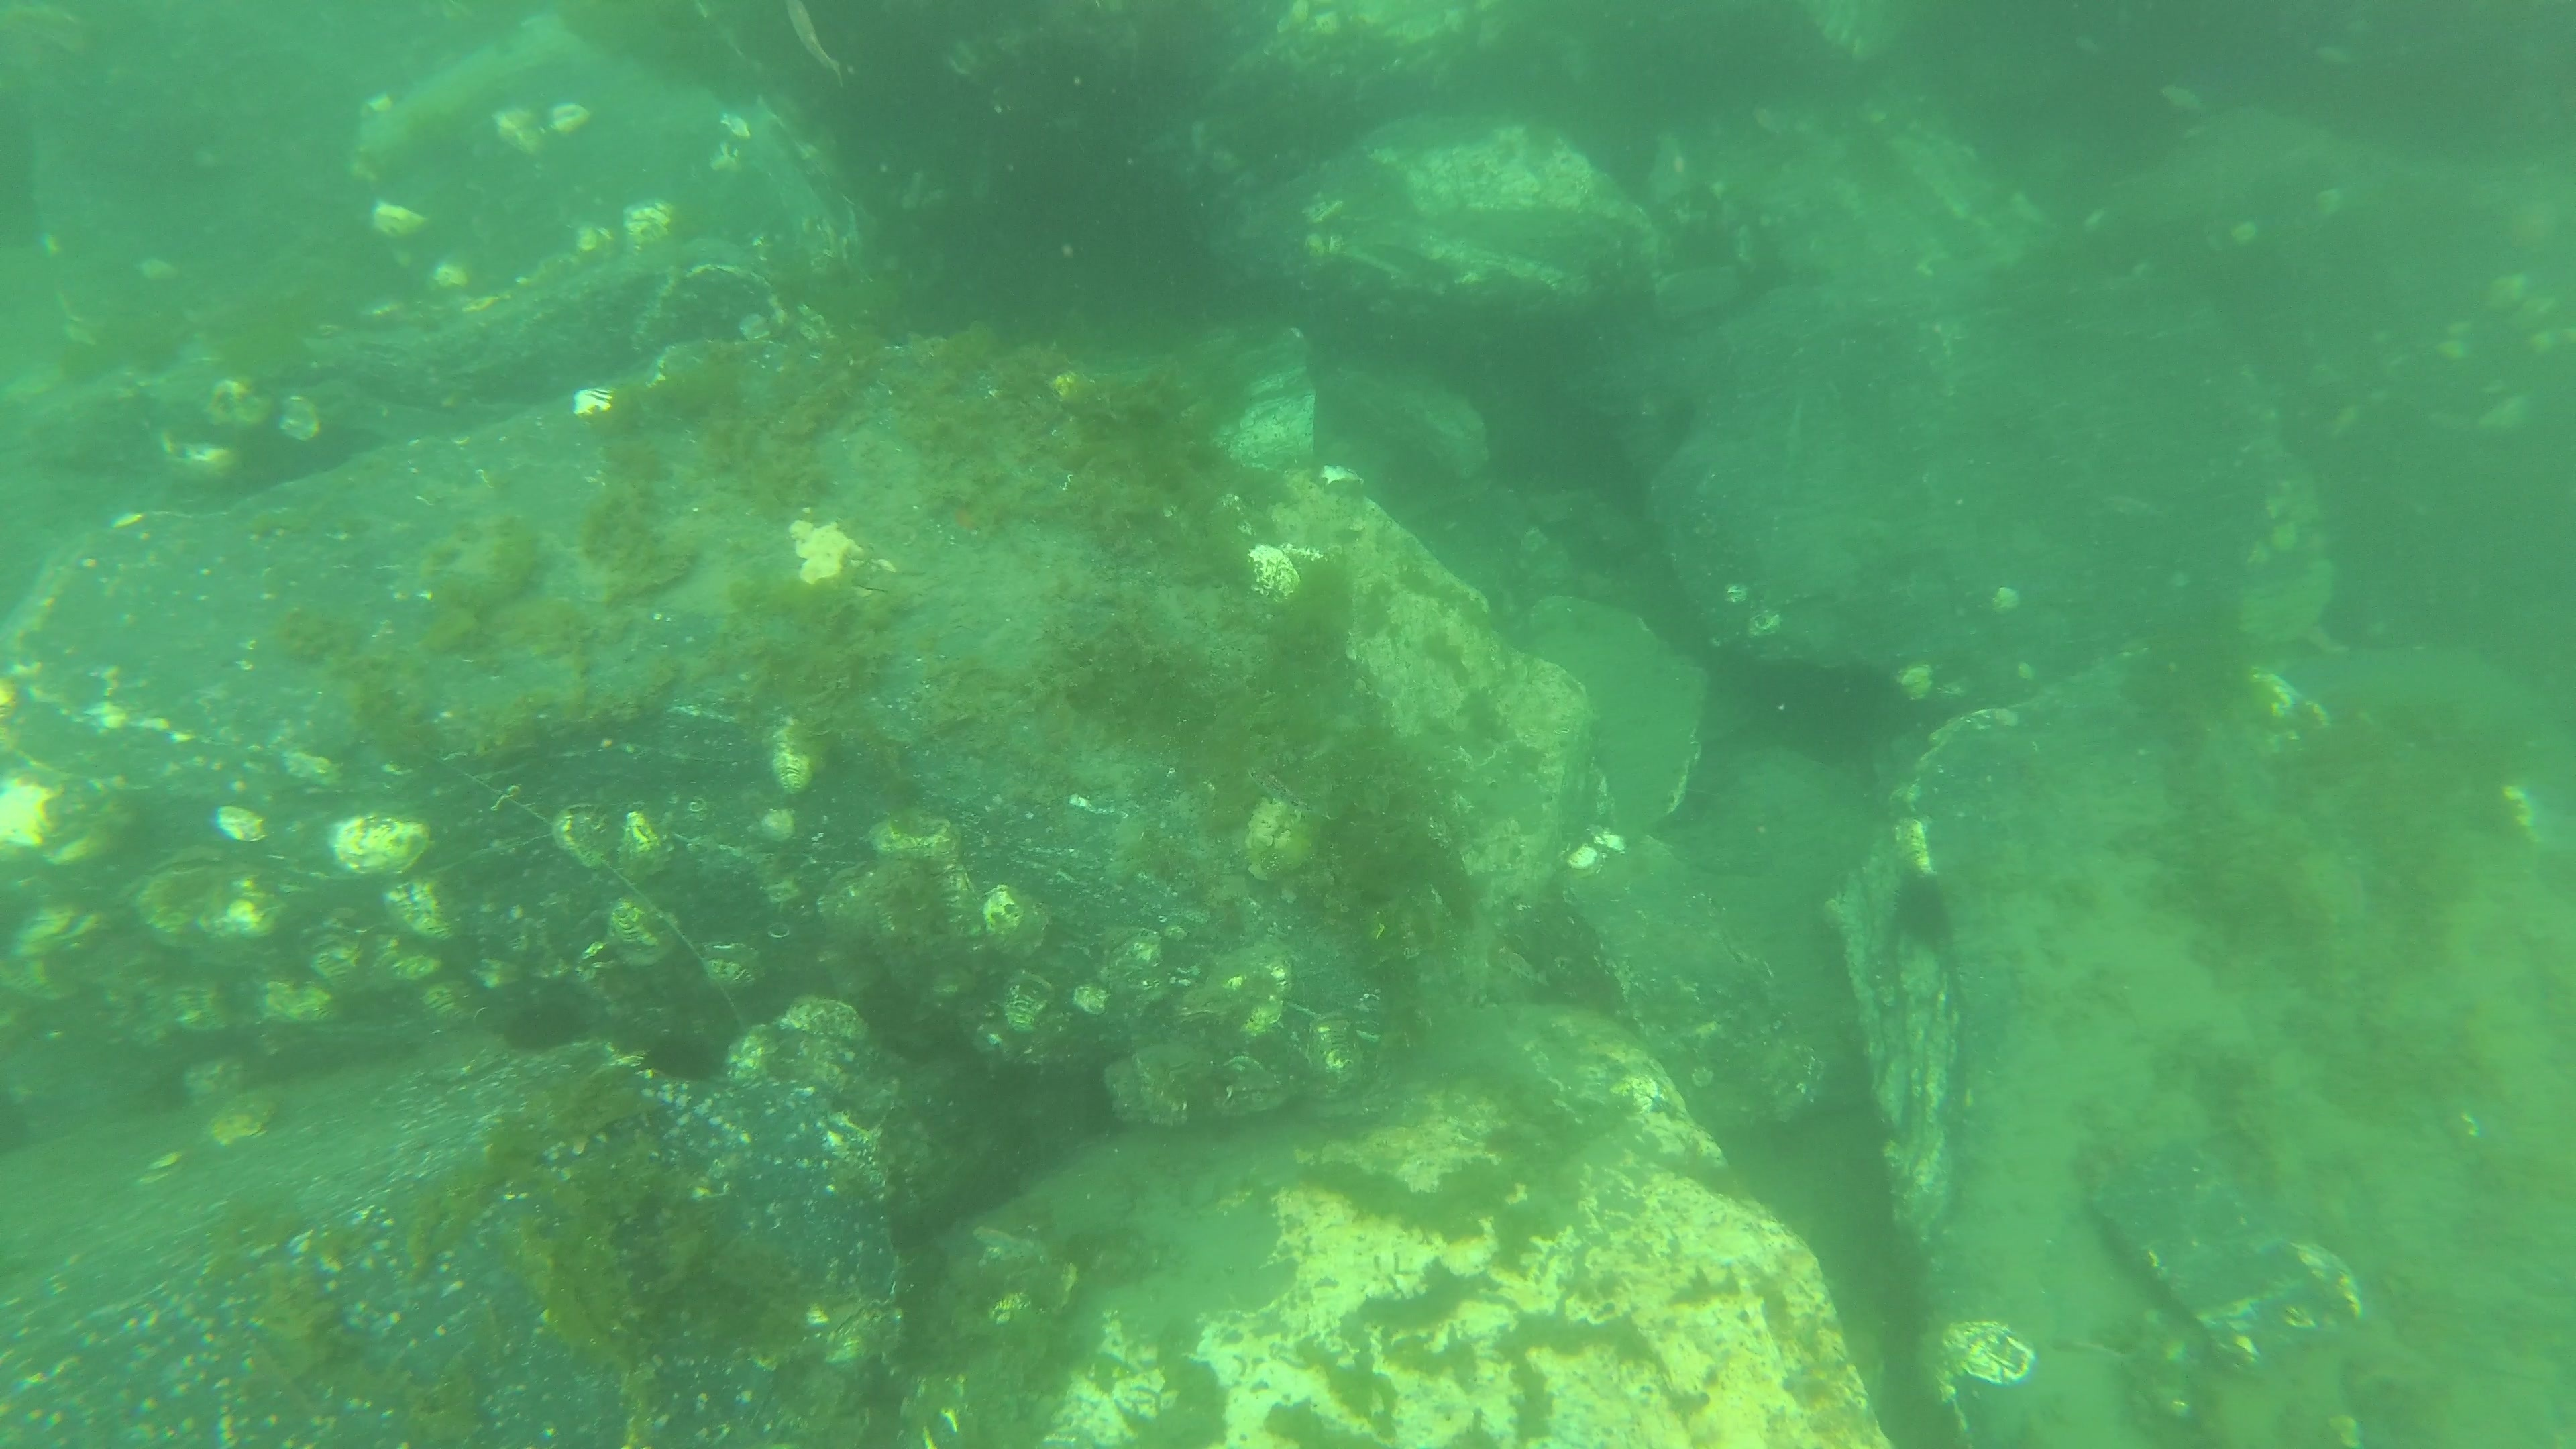echinus: (502, 1000, 594, 1063), (635, 1024, 724, 1088)
